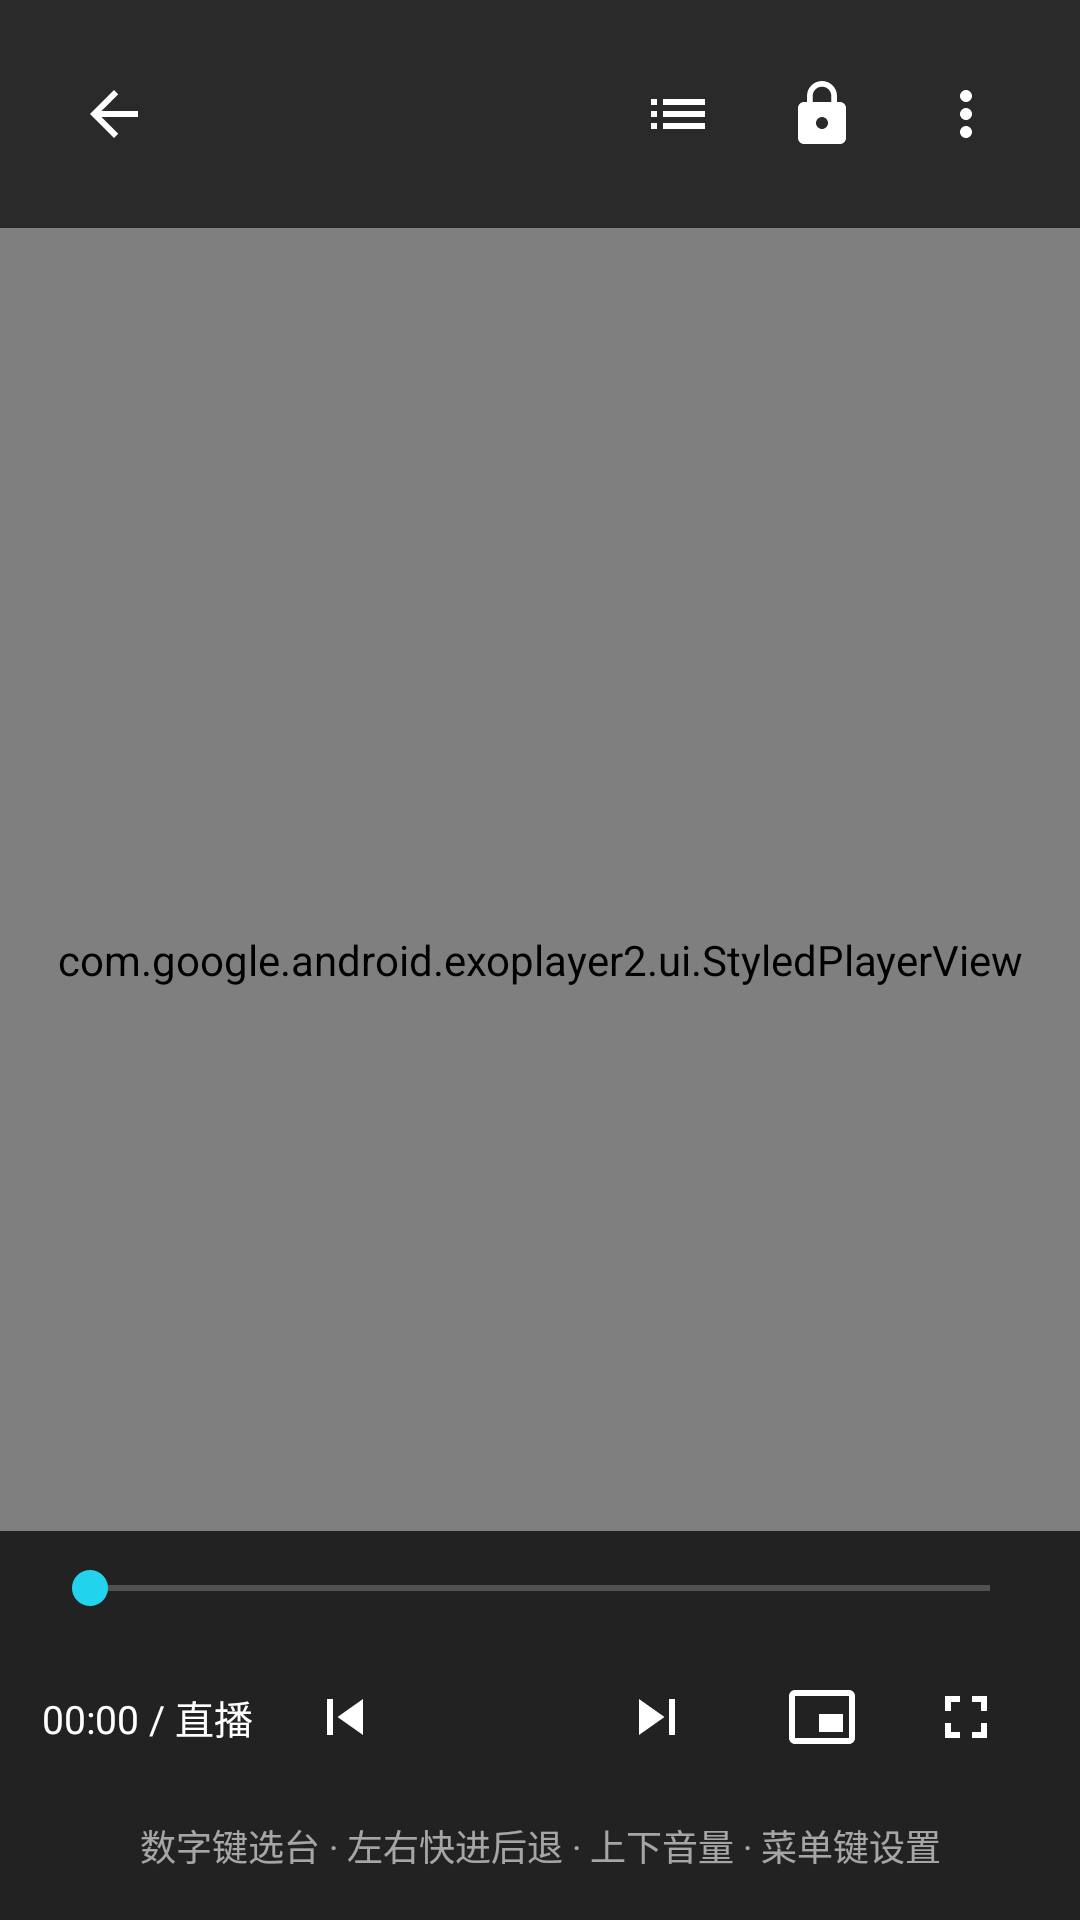

Screen size 1080*1920. Icon name, then its box in pixels as bbox=[x1, y1, x2, y2]:
上一个: bbox=[327, 1699, 363, 1735]
下一个: bbox=[639, 1699, 675, 1735]
全屏: bbox=[945, 1696, 987, 1738]
更多: bbox=[960, 90, 972, 138]
画中画: bbox=[789, 1690, 855, 1744]
返回: bbox=[90, 90, 138, 138]
锁屏: bbox=[798, 81, 846, 144]
频道列表: bbox=[651, 99, 705, 129]
